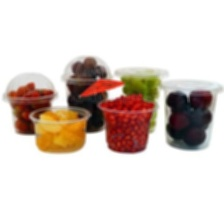glass: (155, 73, 224, 153), (58, 50, 117, 134), (110, 60, 171, 140), (94, 94, 159, 157), (0, 71, 60, 138), (26, 102, 95, 159)
